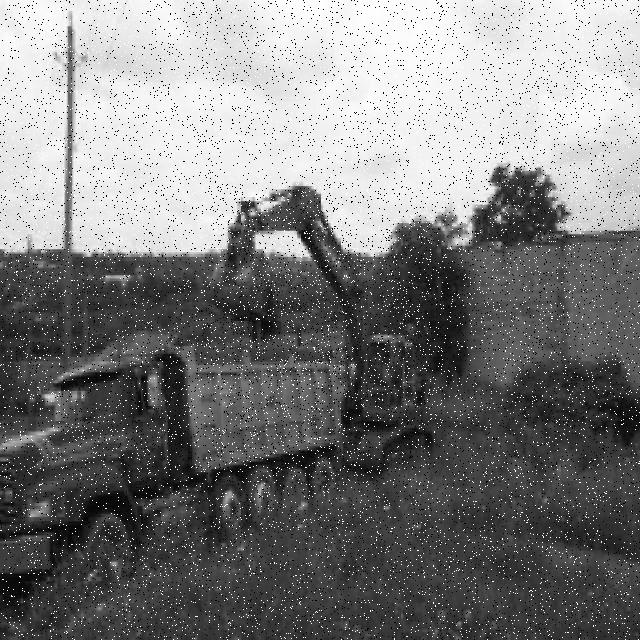Box Truck: (0, 340, 343, 578)
Construction Equipment: (211, 186, 434, 472)
